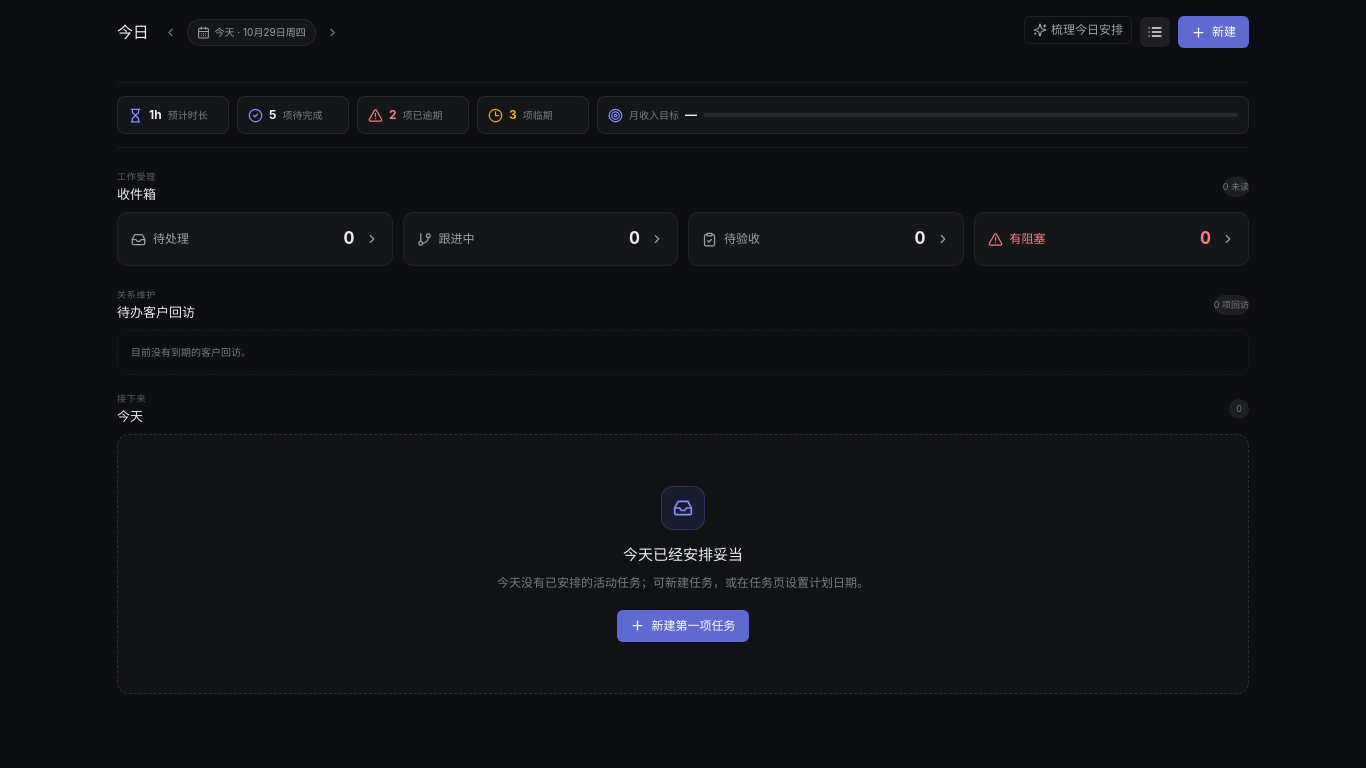
Scenario: TodayPage Inbox overview › toggles the overdue and due-soon cards as exclusive server filters
Step 1. Click the button "2 项已逾期" → click(413, 115), box [357,96,469,134]
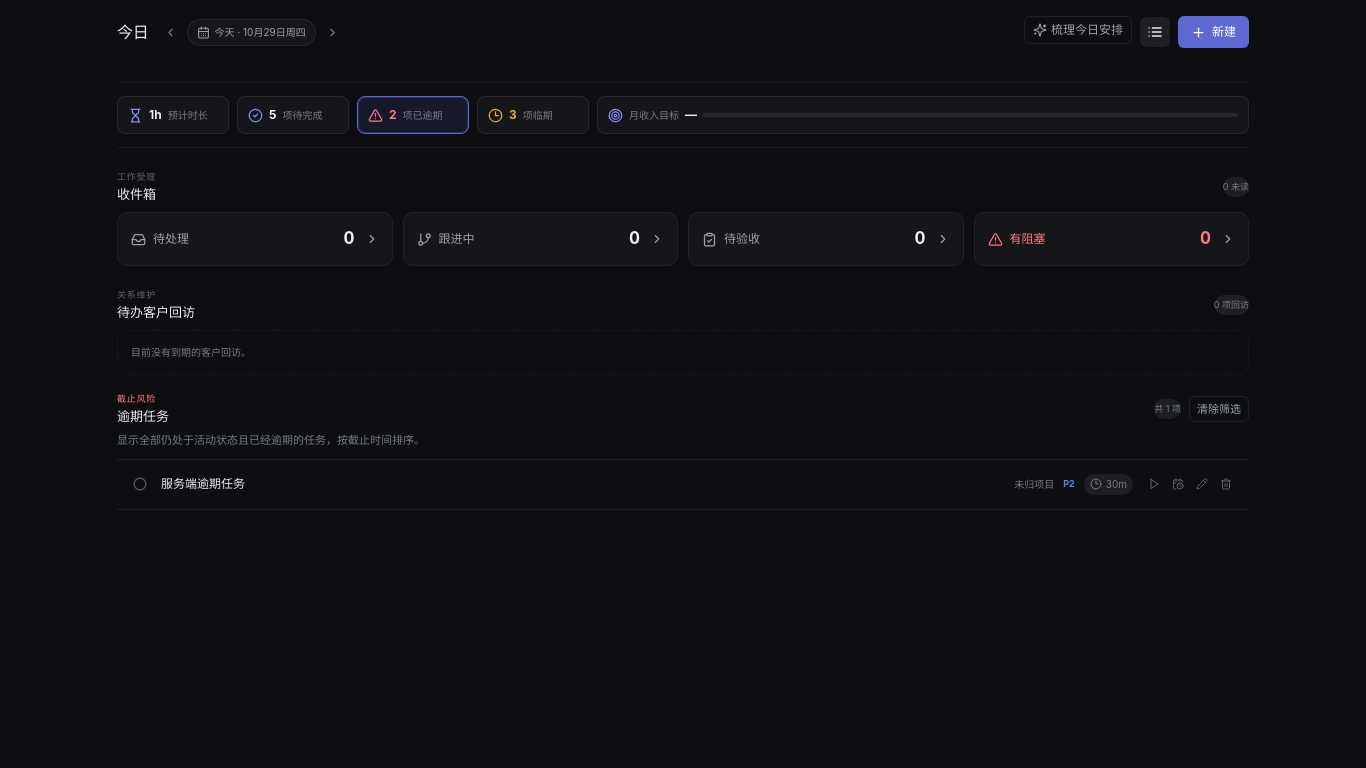
Now the heading "逾期任务" is shown, box [117,406,169,426]
Now the text "服务端逾期任务" is shown, box [161,476,245,491]
Step 2. Click the button "3 项临期" → click(533, 115), box [477,96,589,134]
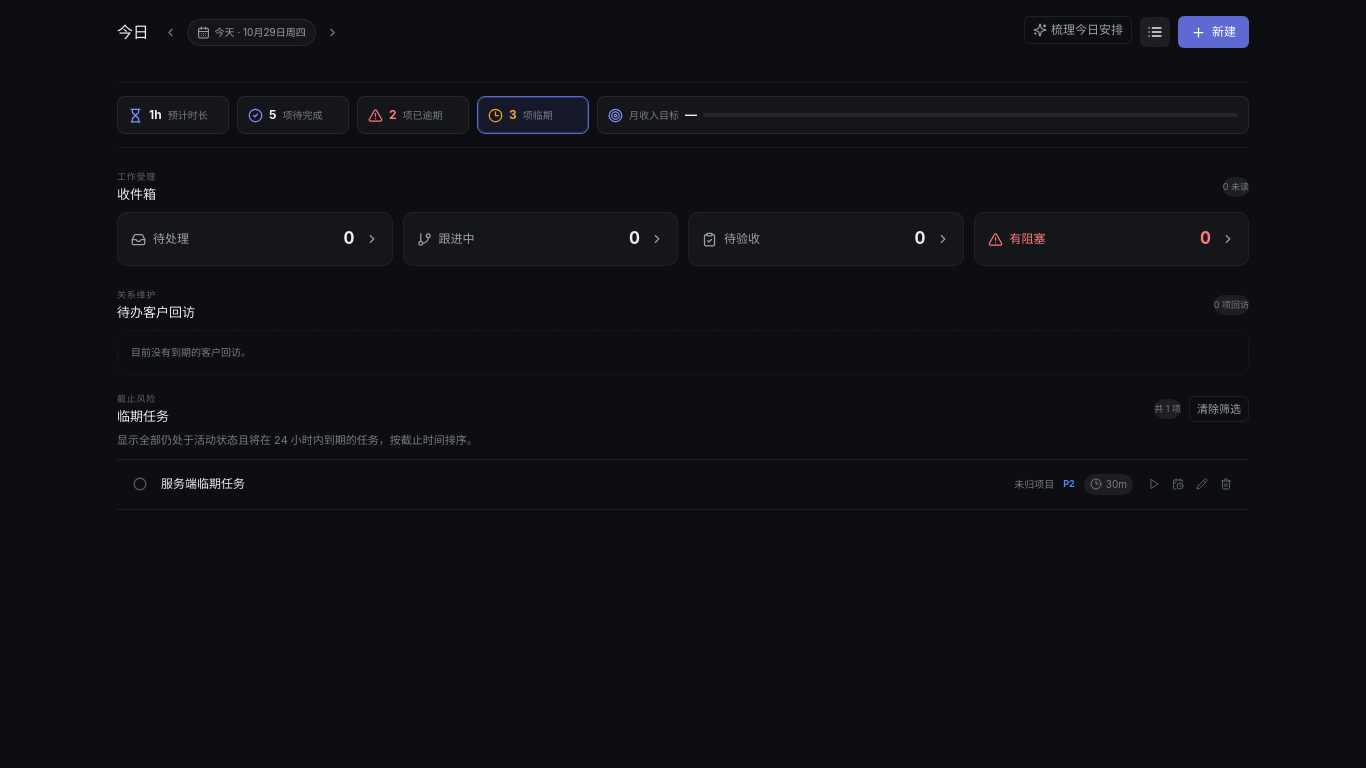
Now the text "服务端临期任务" is shown, box [161,476,245,491]
Step 3. Click the button "3 项临期" → click(533, 115), box [477,96,589,134]
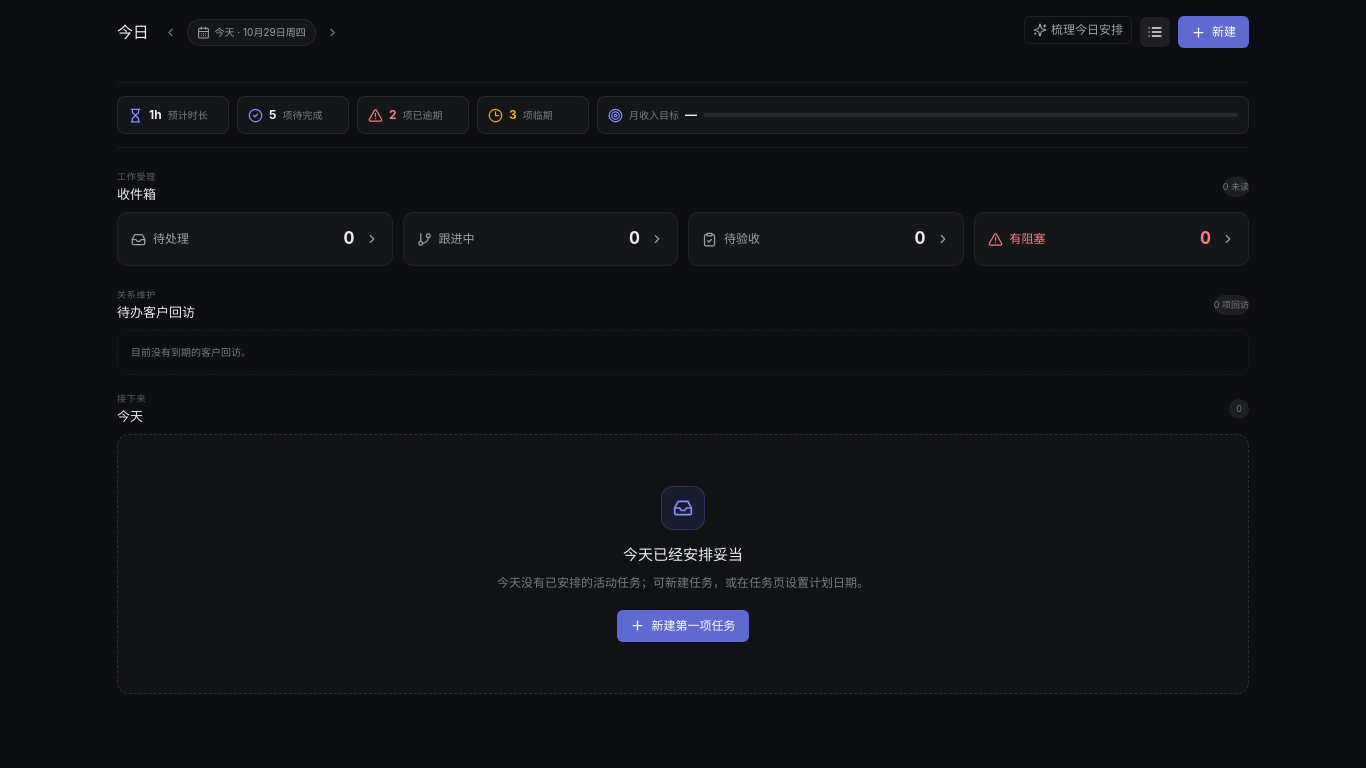
Now the heading "今天" is shown, box [117,406,146,426]
Now the heading "临期任务" is gone
